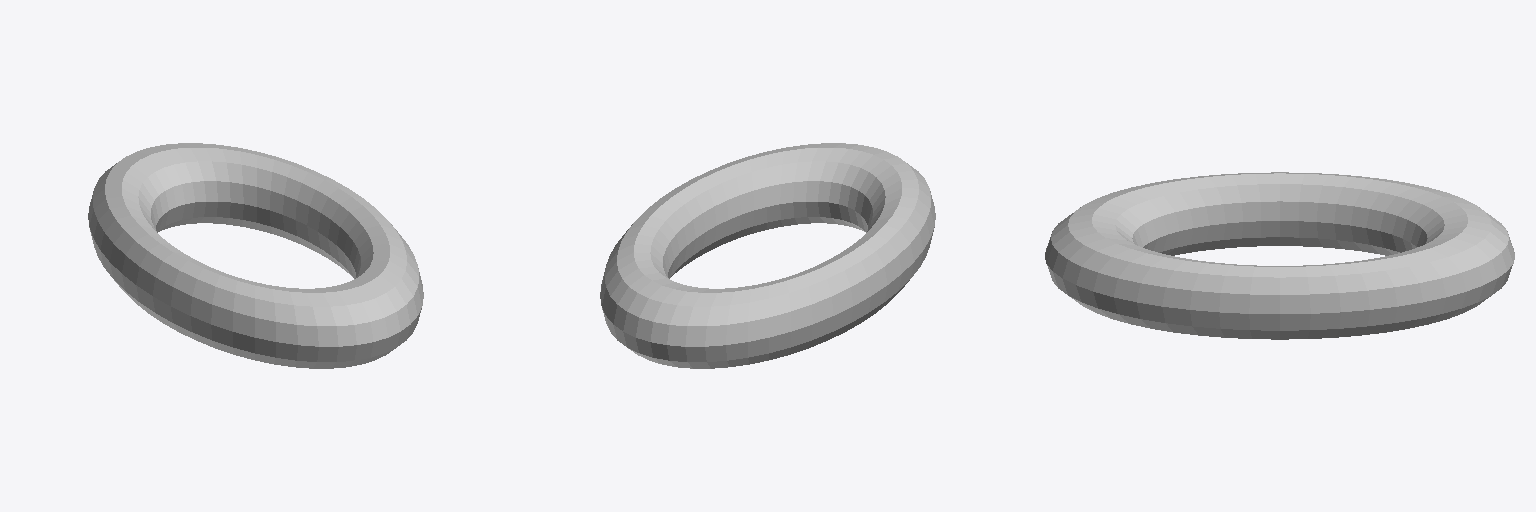
File: tekkyu_chain.obj
3 views of the same model, side by side, from view 1: azimuth 30°, elevation 25°; view 2: azimuth 150°, elevation 25°; view 3: azimuth 270°, elevation 25° (orthographic).
Visible parts, largest first — view 1: Torus; view 2: Torus; view 3: Torus.
Part boxes in pixels (left/top/right/bottom): Torus: left=88, top=143, right=423, bottom=368; Torus: left=600, top=143, right=935, bottom=368; Torus: left=1045, top=172, right=1514, bottom=339.
Bounding box in the file's own units: 1.75 × 0.5 × 2.98.